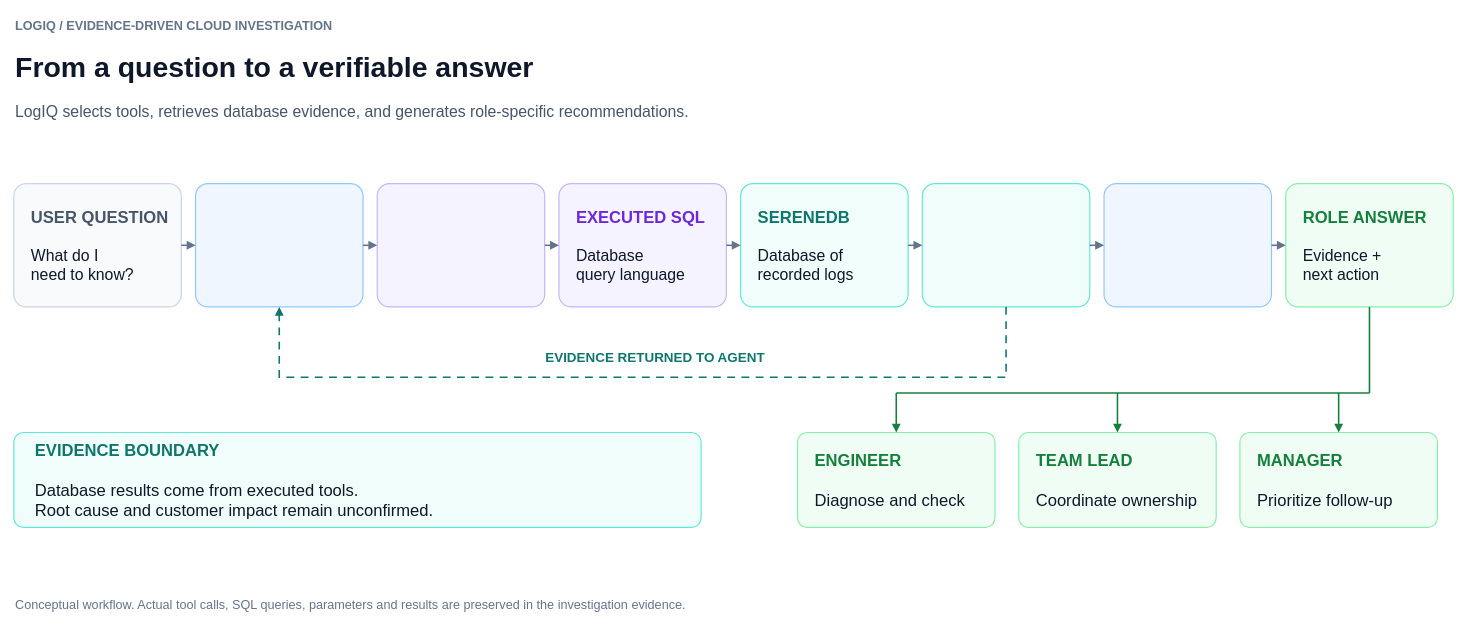
The diagram is 1469 pixels wide and 631 high, and some of its shapes have lost their labels. Here are the shapes that lost their labels. From the top down, the box of each, then its label:
(195, 183, 363, 307): LOGIQ AGENT Chooses tools for the question
(376, 183, 545, 307): TOOL SELECTION Search, count or rank
(921, 183, 1090, 307): QUERY RESULTS Actual records and counts
(1103, 183, 1272, 307): INTERPRETATION Separate facts from unknowns
